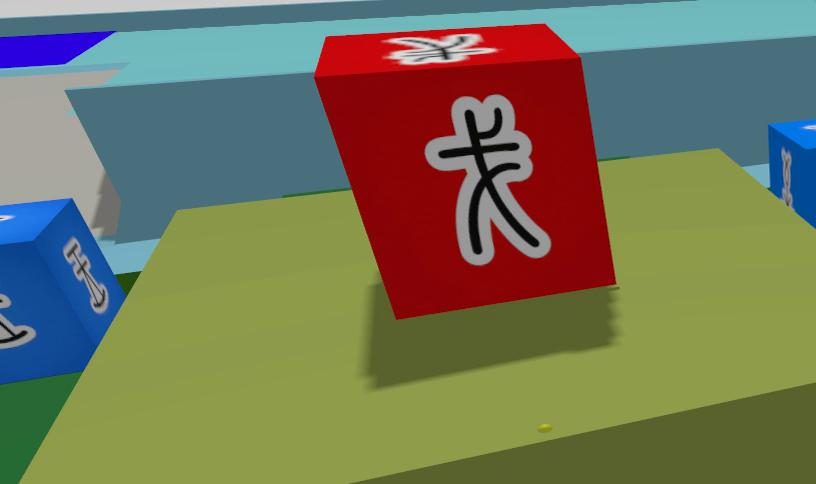KFS_FAKE: (314, 24, 615, 317), (426, 95, 549, 265), (384, 32, 497, 65)
KFS_REAL: (0, 199, 124, 382), (769, 119, 816, 228), (64, 239, 107, 312), (0, 313, 33, 347), (0, 293, 10, 308)
